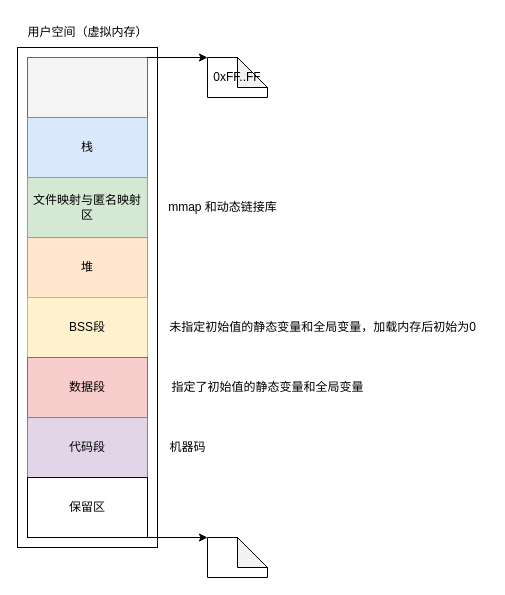
Some shapes in this 505 by 595 pixel diagram are drawn without their labels. The centre of each missing label's shape, as x and y in pixels:
"0x00..00" goes at pixel 237 557.
"内核空间" goes at pixel 87 87.
